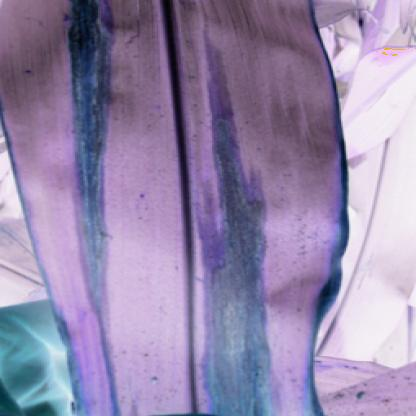corn leaf blight: (2, 58, 414, 286)
